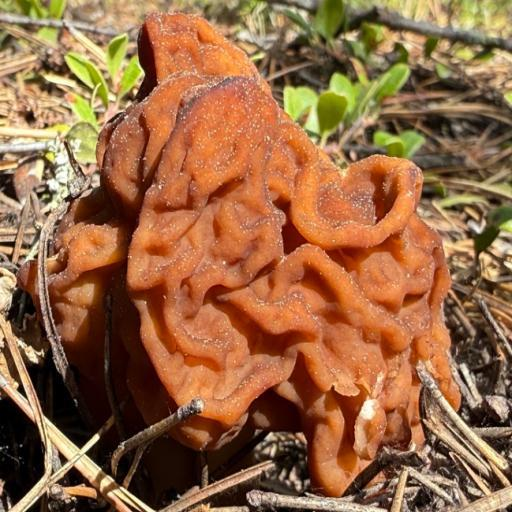mushroom: (36, 9, 461, 491)
